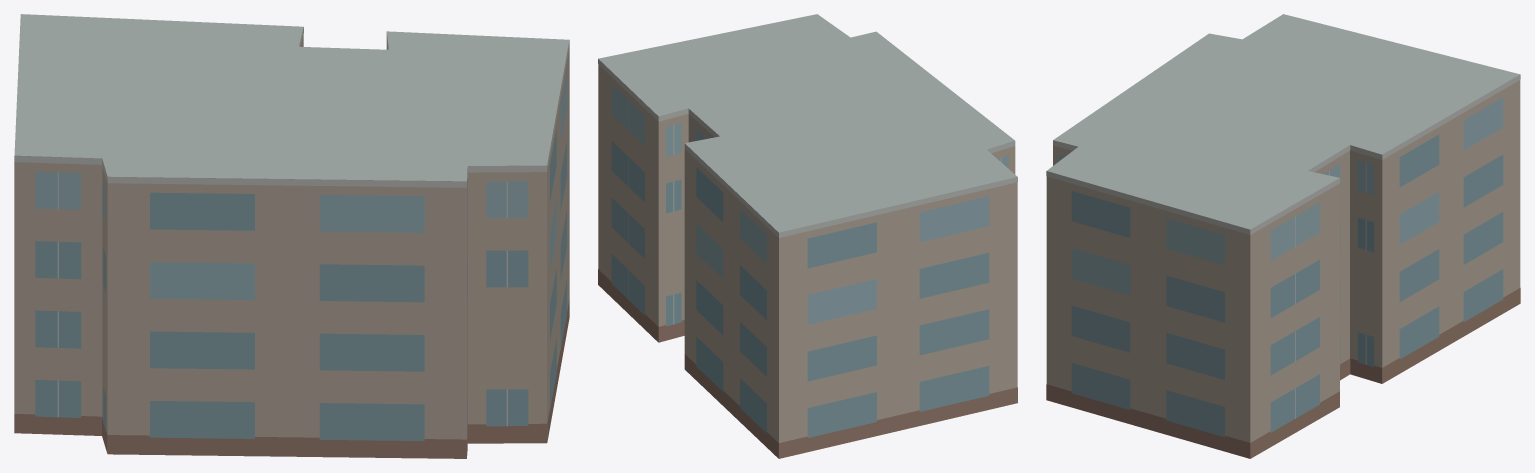
The model's file is survey-upis-32776057.glb.
3 renders of one model, left to right at view 1: azimuth 30°, elevation 25°; view 2: azimuth 150°, elevation 25°; view 3: azimuth 270°, elevation 25°, orthographic. The views are drawn at different scales.
Visible parts, largest first — view 1: survey-upis-32776057.tmp; view 2: survey-upis-32776057.tmp; view 3: survey-upis-32776057.tmp.
Boxes of the visible parts, <box> form: survey-upis-32776057.tmp: <box>14,14,569,458</box>; survey-upis-32776057.tmp: <box>598,14,1017,458</box>; survey-upis-32776057.tmp: <box>1046,14,1520,458</box>.
Size of the model in its own units: 20.99 by 10.4 by 19.49.
